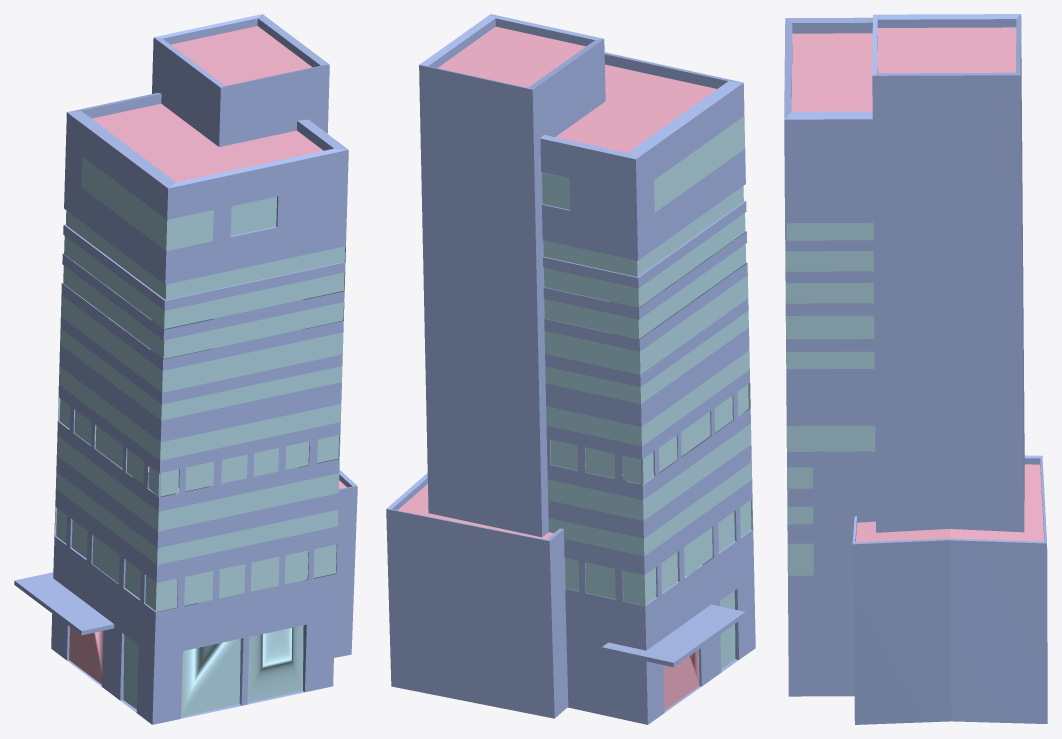
3 renders of one model, left to right at view 1: azimuth 30°, elevation 25°; view 2: azimuth 150°, elevation 25°; view 3: azimuth 270°, elevation 25°, orthographic. The views are drawn at different scales.
Visible parts, largest first — view 1: s.0096, s.0082, s.0093, s.0094, s.0089; view 2: s.0096, s.0082, s.0093, s.0094, s.0089, s.0091, s.001; view 3: s.0096, s.0082, s.0093, s.0094, s.0091.
Boxes of the visible parts, box(x1,y1,x2,y2) form: s.0096: box(14, 14, 357, 724); s.0082: box(54, 156, 345, 717); s.0093: box(92, 103, 323, 182); s.0094: box(171, 26, 312, 85); s.0089: box(69, 627, 103, 684); s.0096: box(386, 14, 755, 724); s.0082: box(543, 116, 753, 669); s.0093: box(555, 64, 716, 152); s.0094: box(438, 26, 585, 87); s.0089: box(663, 650, 699, 710); s.0091: box(397, 484, 553, 539); s.001: box(542, 172, 569, 209); s.0096: box(784, 14, 1047, 724); s.0082: box(785, 222, 875, 575); s.0093: box(791, 33, 872, 111); s.0094: box(877, 27, 1016, 73); s.0091: box(855, 464, 1044, 542).
Bounding box in the file's own units: 46.98 × 99.23 × 36.69.
